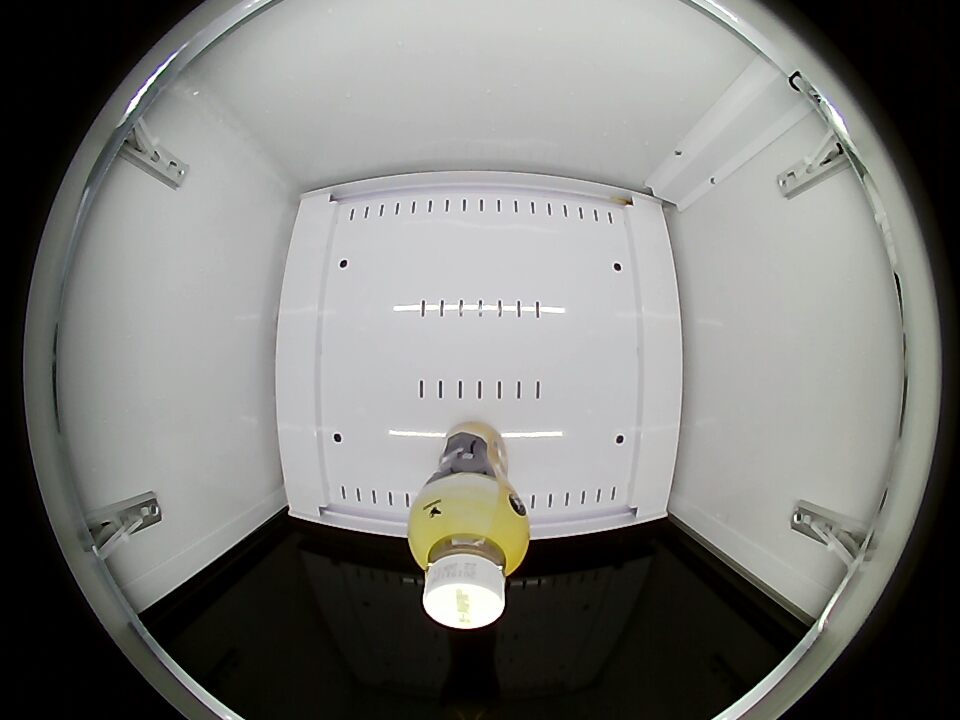asamu: (408, 498, 529, 630)
